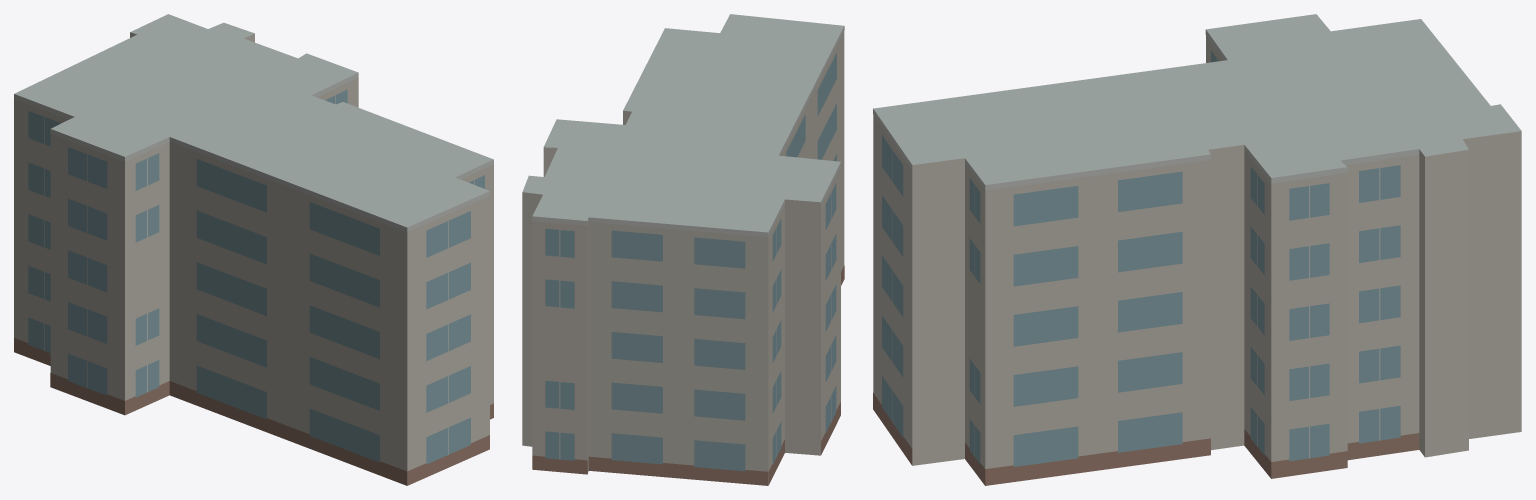
File: survey-upis-32952256.glb
The picture shows the model from 3 angles, left to right: view 1: azimuth 30°, elevation 25°; view 2: azimuth 150°, elevation 25°; view 3: azimuth 270°, elevation 25°; orthographic projection. The views are drawn at different scales.
Parts seen in each view (by area): view 1: survey-upis-32952256.tmp; view 2: survey-upis-32952256.tmp; view 3: survey-upis-32952256.tmp.
Boxes of the visible parts, <box> form: survey-upis-32952256.tmp: <box>14,14,493,485</box>; survey-upis-32952256.tmp: <box>522,14,844,485</box>; survey-upis-32952256.tmp: <box>873,14,1521,485</box>.
Bounding box in the file's own units: 15.99 × 13.1 × 25.61.
